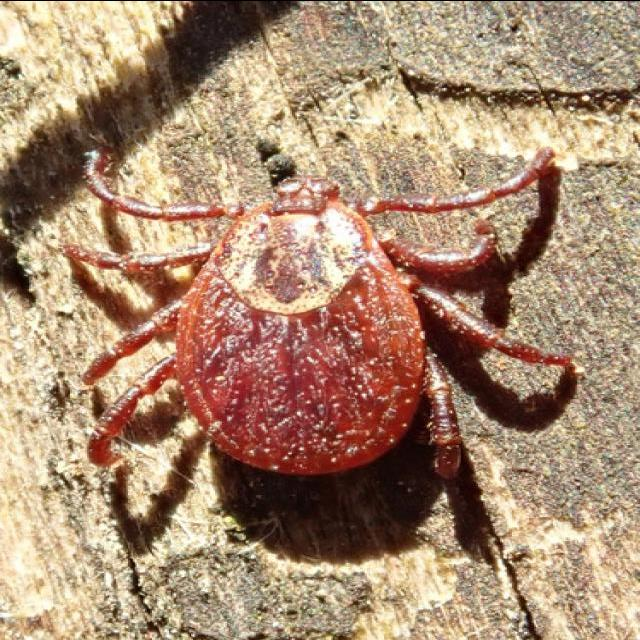Dermacentor Reticulatus-F: (63, 150, 571, 477)
